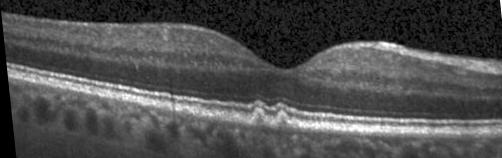retinal_drusen: (209, 111, 248, 125), (274, 114, 286, 130), (250, 111, 262, 125), (158, 104, 169, 111), (179, 108, 189, 115), (288, 120, 297, 127)
